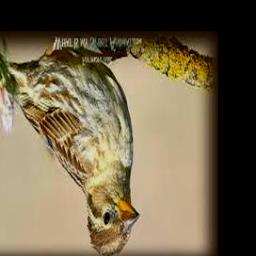Sparrow: (0, 44, 139, 256)
